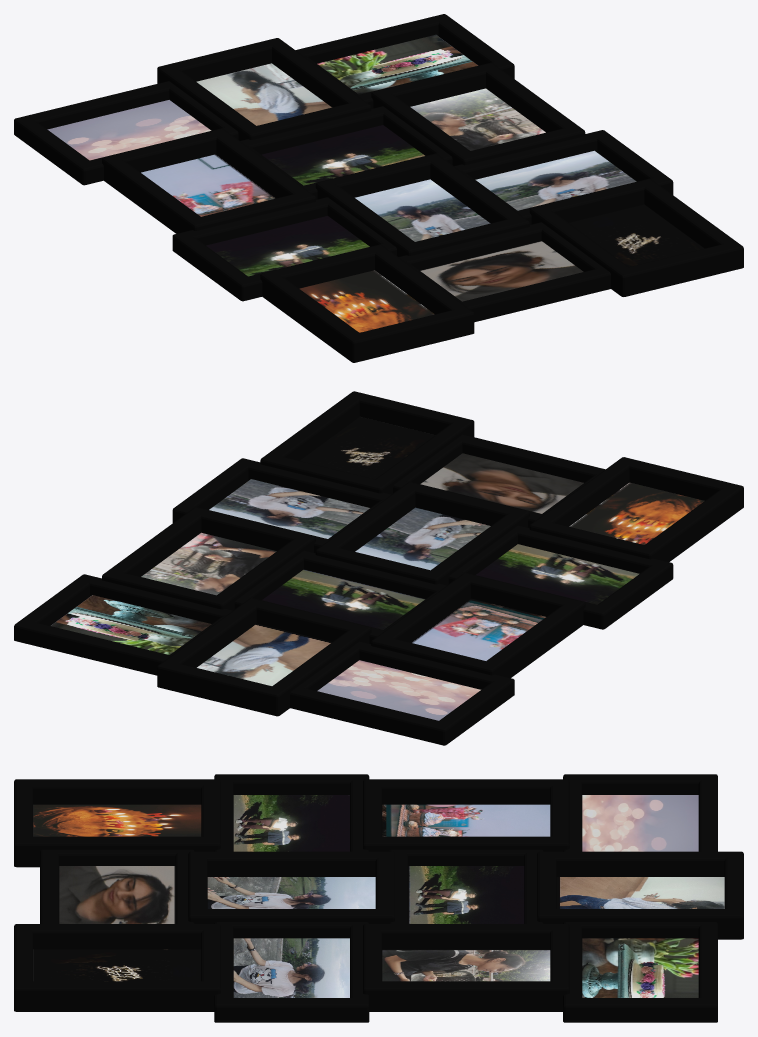
Rendered from asset.gltf.
The picture shows the model from 3 angles, top to bottom: view 1: azimuth 30°, elevation 25°; view 2: azimuth 150°, elevation 25°; view 3: azimuth 270°, elevation 25°; orthographic projection. The views are drawn at different scales.
Visible parts, largest first — view 1: frame_2, photos_3; view 2: frame_2, photos_3; view 3: frame_2, photos_3.
Boxes of the visible parts, bbox=[...] form: frame_2: bbox=[14, 14, 743, 362]; photos_3: bbox=[47, 34, 704, 332]; frame_2: bbox=[14, 391, 743, 745]; photos_3: bbox=[51, 417, 704, 720]; frame_2: bbox=[14, 774, 743, 1022]; photos_3: bbox=[33, 795, 724, 997].
Bounding box in the file's own units: 0.425 × 0.02 × 0.565.
4 materials, 1 textured.
